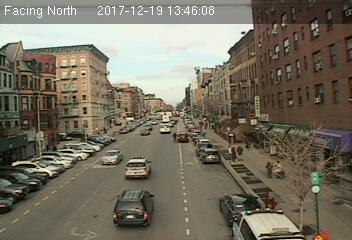car: (114, 188, 156, 224), (100, 149, 121, 165)
police: (232, 206, 313, 240), (124, 156, 153, 179)
